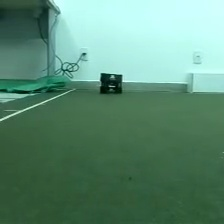goal: (185, 69, 224, 94)
robot: (98, 71, 123, 95)
